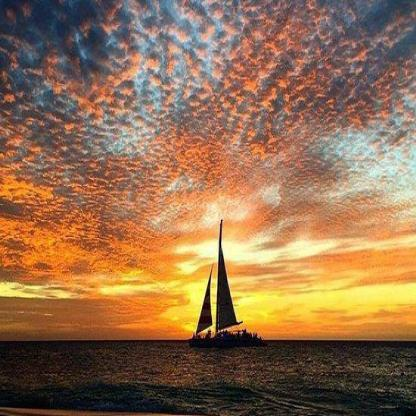other: (24, 106, 405, 326)
